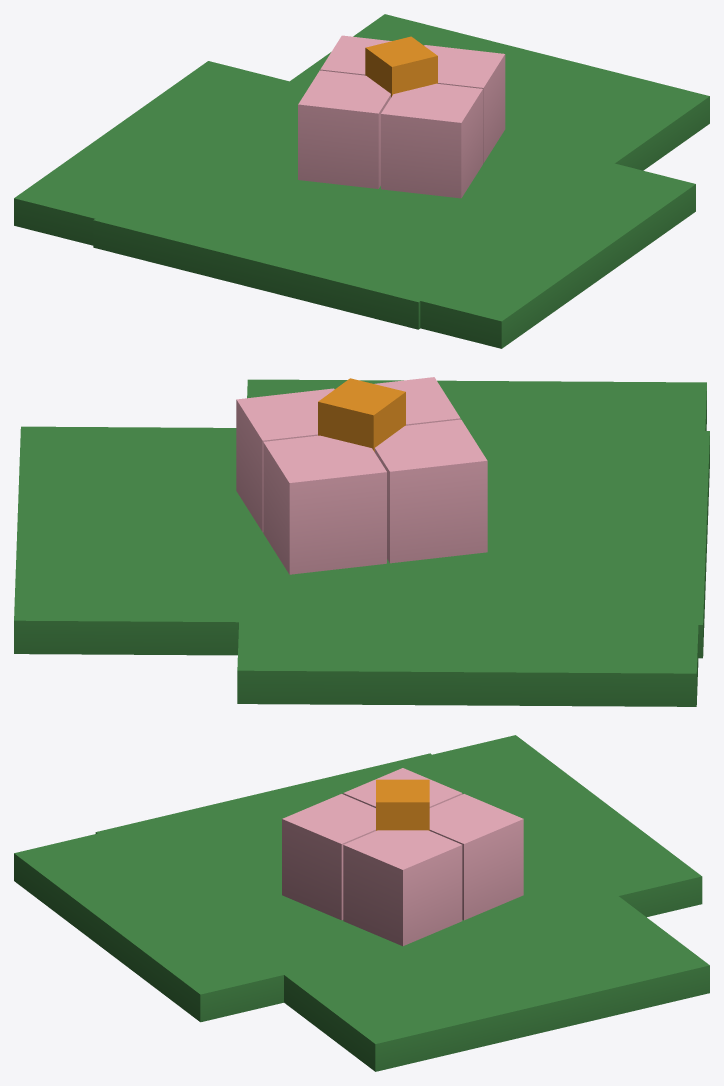
Rendered from C08_lily_pad_flower.glb.
The picture shows the model from 3 angles, top to bottom: view 1: azimuth 30°, elevation 25°; view 2: azimuth 150°, elevation 25°; view 3: azimuth 270°, elevation 25°; orthographic projection. The views are drawn at different scales.
Parts seen in each view (by area): view 1: C08_lily_pad_flower; view 2: C08_lily_pad_flower; view 3: C08_lily_pad_flower.
Part boxes in pixels (x1=…): C08_lily_pad_flower: x1=14, y1=14, x2=709, y2=348; C08_lily_pad_flower: x1=14, y1=377, x2=709, y2=706; C08_lily_pad_flower: x1=14, y1=735, x2=709, y2=1071.
Size of the model in its own units: 0.955 by 0.195 by 0.9087.
